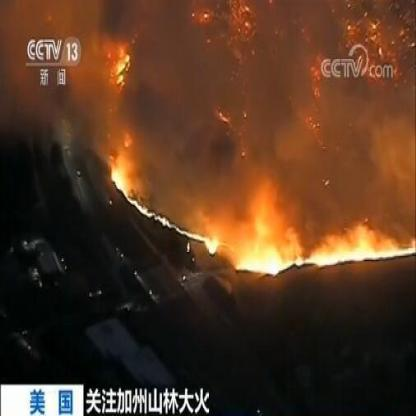fire: (193, 155, 410, 271), (96, 41, 152, 202)
